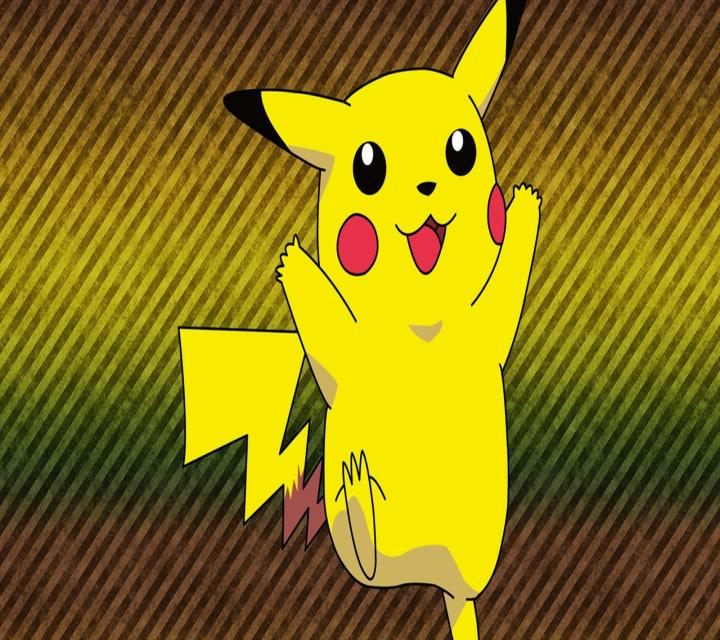Pikachu: (180, 0, 568, 640)
